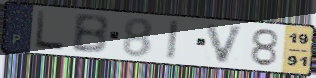8: (121, 16, 156, 59), (250, 27, 281, 68)
B: (71, 13, 111, 55)
I: (164, 18, 181, 61)
L: (33, 9, 67, 52)
V: (205, 22, 248, 66)
